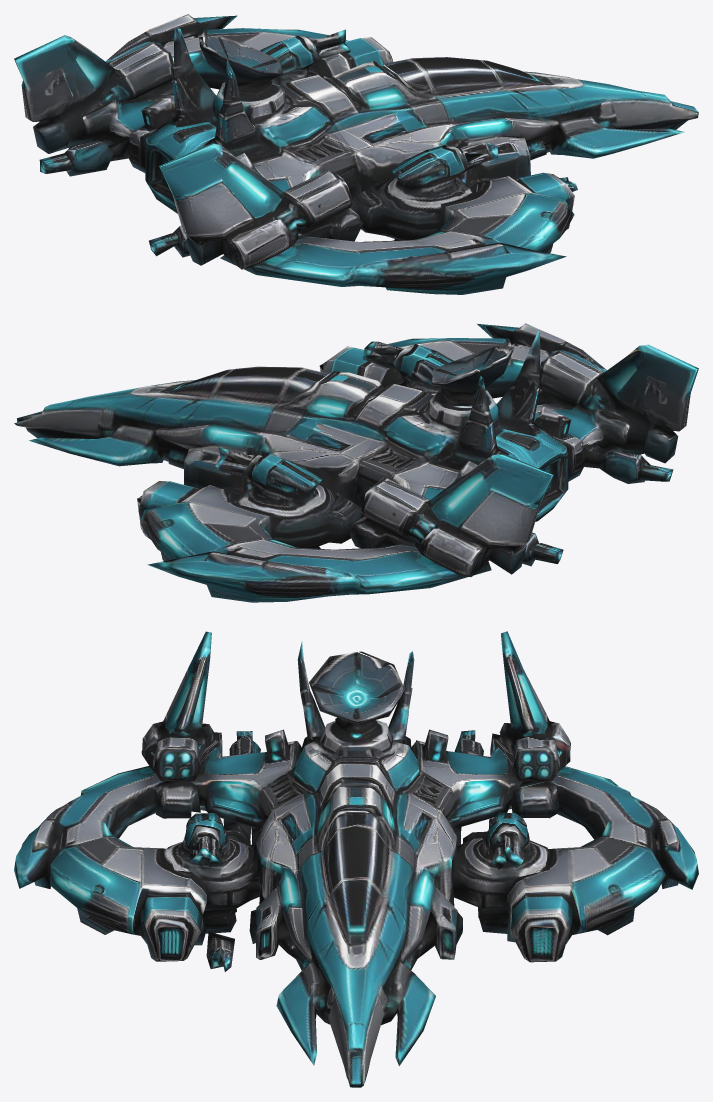
Rendered from defensive_lvl_1-1.glb.
3 renders of one model, top to bottom at view 1: azimuth 30°, elevation 25°; view 2: azimuth 150°, elevation 25°; view 3: azimuth 270°, elevation 25°, orthographic. The views are drawn at different scales.
Visible parts, largest first — view 1: tripo_node_62f8c092-e570-4e2f-bffb-321d34601075; view 2: tripo_node_62f8c092-e570-4e2f-bffb-321d34601075; view 3: tripo_node_62f8c092-e570-4e2f-bffb-321d34601075.
Boxes of the visible parts, <box> form: tripo_node_62f8c092-e570-4e2f-bffb-321d34601075: <box>14,14,698,294</box>; tripo_node_62f8c092-e570-4e2f-bffb-321d34601075: <box>14,323,698,602</box>; tripo_node_62f8c092-e570-4e2f-bffb-321d34601075: <box>14,631,698,1087</box>.
Bounding box in the file's own units: 0.9796 × 0.3289 × 0.9337.
Materials: 1 (1 with a texture image).
